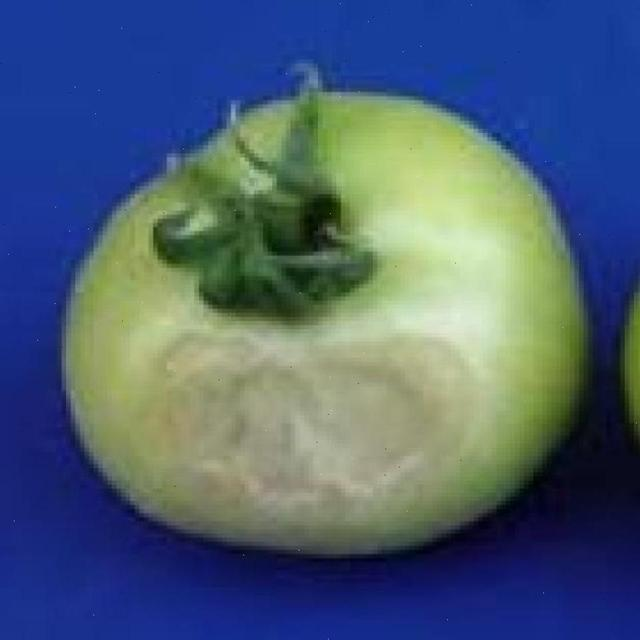Sunscald Fruit: (94, 206, 317, 334)
